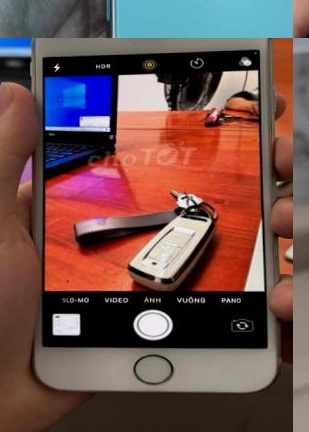scratch: (22, 38, 38, 49)
